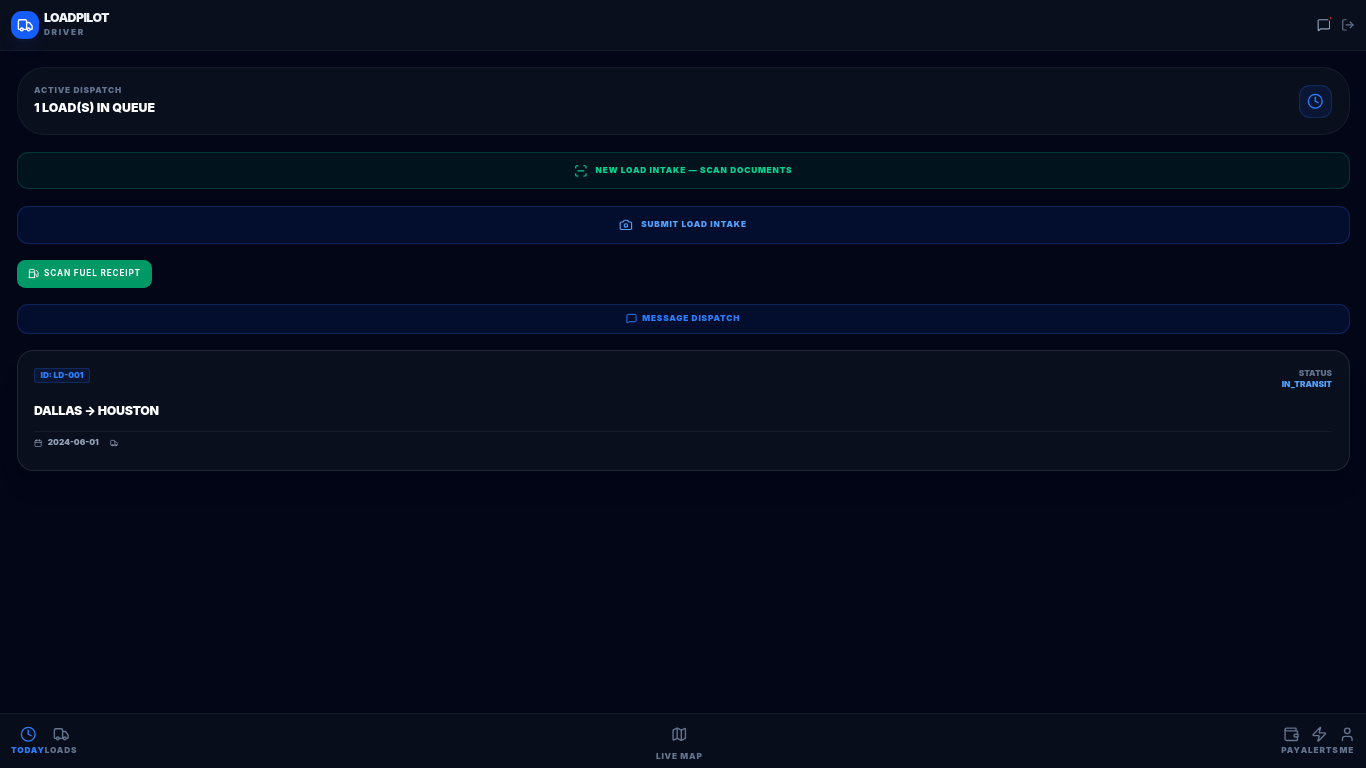
DriverMobileHome coverage — lines 749-962 › shows 'No truck assigned' when no loads have truck numbers
The image size is (1366, 768).
Click the button "Me" at (1347, 741), box top-left (1338, 726), bottom-right (1355, 756)
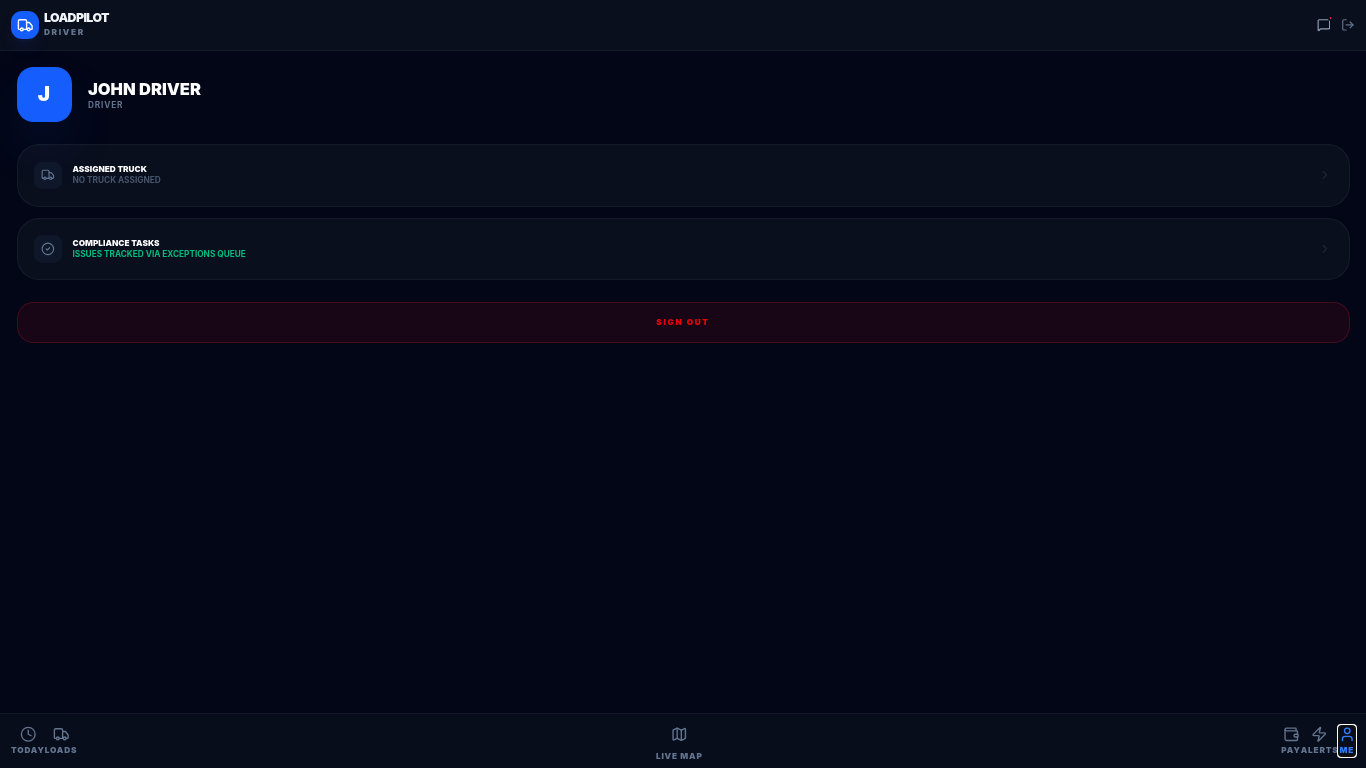
expect the text "No truck assigned" is shown: met, box top-left (72, 175), bottom-right (161, 186)
